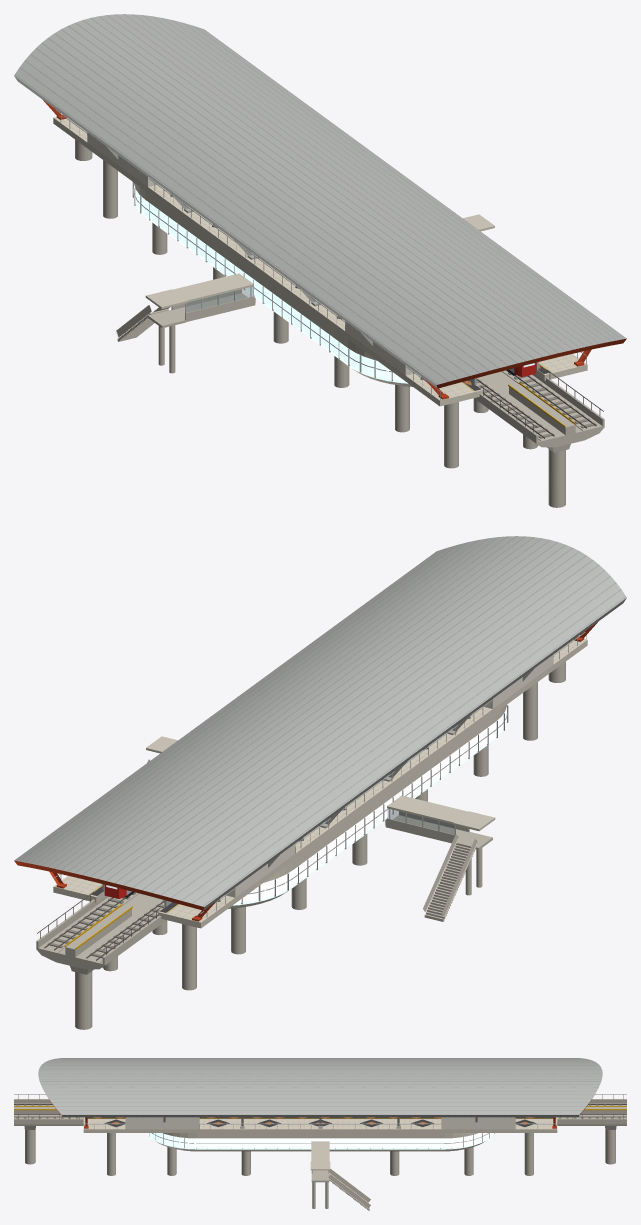
The model's file is orange_line_station.glb.
3 views of the same model, one above another, from view 1: azimuth 30°, elevation 25°; view 2: azimuth 150°, elevation 25°; view 3: azimuth 270°, elevation 25° (orthographic). The views are drawn at different scales.
Visible parts, largest first — view 1: m_olm_roof, m_olm_concrete, m_olm_face, m_olm_ribbon, m_olm_floor, m_olm_block, m_olm_mullion, m_olm_steel, m_olm_sleeper, m_olm_rail, m_olm_stainless; view 2: m_olm_roof, m_olm_concrete, m_olm_face, m_olm_ribbon, m_olm_floor, m_olm_block, m_olm_mullion, m_olm_steel, m_olm_sleeper, m_olm_rail, m_olm_stainless; view 3: m_olm_roof, m_olm_concrete, m_olm_face, m_olm_ribbon, m_olm_floor, m_olm_block, m_olm_dark_tile, m_olm_stainless, m_olm_yellow, m_olm_rail, m_olm_mullion, m_olm_orange_tile (+1 smaller).
Boxes of the visible parts, <box> form: m_olm_roof: <box>14,14,626,388</box>; m_olm_concrete: <box>75,139,604,507</box>; m_olm_face: <box>53,118,587,406</box>; m_olm_ribbon: <box>134,184,407,383</box>; m_olm_floor: <box>54,117,586,400</box>; m_olm_block: <box>87,132,415,375</box>; m_olm_mullion: <box>132,182,392,381</box>; m_olm_steel: <box>43,100,626,399</box>; m_olm_sleeper: <box>476,372,596,438</box>; m_olm_rail: <box>476,369,603,438</box>; m_olm_stainless: <box>55,110,586,400</box>; m_olm_roof: <box>14,536,626,910</box>; m_olm_concrete: <box>36,661,565,1029</box>; m_olm_face: <box>53,640,587,928</box>; m_olm_ribbon: <box>233,706,506,905</box>; m_olm_floor: <box>54,639,586,922</box>; m_olm_block: <box>225,654,553,897</box>; m_olm_mullion: <box>241,705,508,904</box>; m_olm_steel: <box>14,622,597,921</box>; m_olm_sleeper: <box>47,892,164,958</box>; m_olm_rail: <box>37,891,164,960</box>; m_olm_stainless: <box>54,632,586,917</box>; m_olm_roof: <box>38,1058,602,1117</box>; m_olm_concrete: <box>14,1099,626,1210</box>; m_olm_face: <box>83,1129,557,1208</box>; m_olm_ribbon: <box>146,1133,494,1149</box>; m_olm_floor: <box>83,1117,557,1129</box>; m_olm_block: <box>125,1117,515,1129</box>; m_olm_dark_tile: <box>85,1117,555,1127</box>; m_olm_stainless: <box>84,1123,556,1128</box>; m_olm_yellow: <box>14,1106,626,1118</box>; m_olm_rail: <box>14,1094,626,1118</box>; m_olm_mullion: <box>149,1133,494,1149</box>; m_olm_orange_tile: <box>93,1117,534,1124</box>.
Bounding box in the file's own units: 50.8 × 21 × 132.
Materials: 28 (3 with a texture image).
